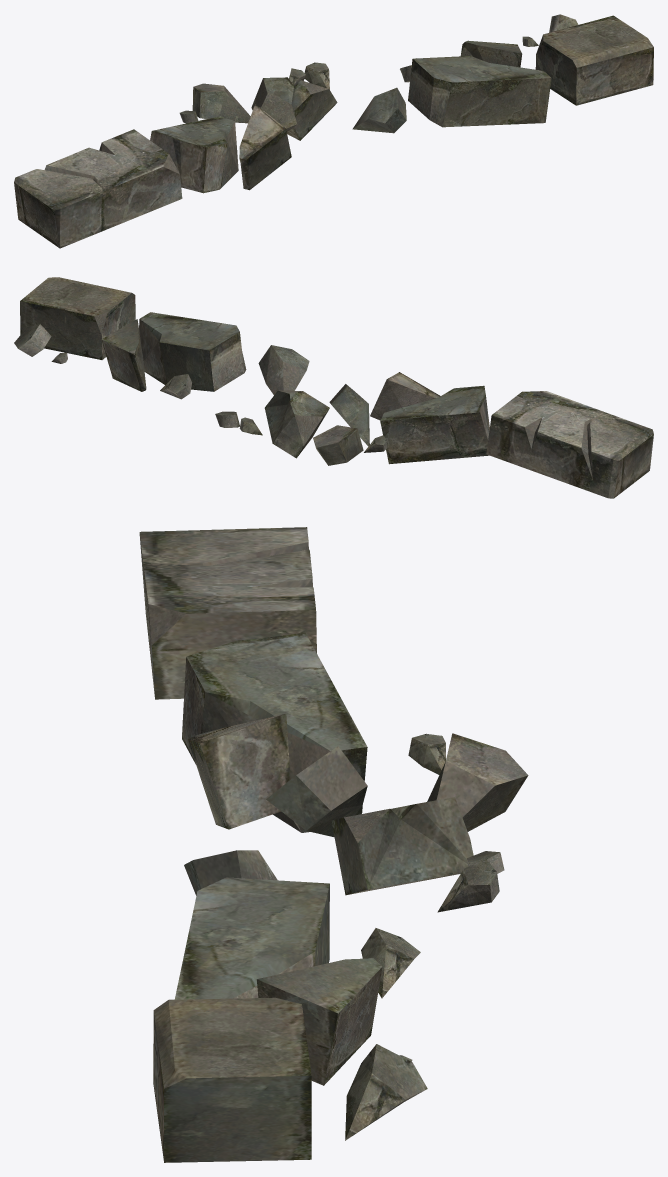
The model's file is bg_anh_gvalley_stairend01c_sm_cwk.FBX.
3 renders of one model, top to bottom at view 1: azimuth 30°, elevation 25°; view 2: azimuth 150°, elevation 25°; view 3: azimuth 270°, elevation 25°, orthographic. The views are drawn at different scales.
Parts seen in each view (by area): view 1: bg_anh_gvalley_stairend01c_sm_cwk; view 2: bg_anh_gvalley_stairend01c_sm_cwk; view 3: bg_anh_gvalley_stairend01c_sm_cwk.
Boxes of the visible parts, <box> form: bg_anh_gvalley_stairend01c_sm_cwk: <box>14,14,653,248</box>; bg_anh_gvalley_stairend01c_sm_cwk: <box>14,277,653,498</box>; bg_anh_gvalley_stairend01c_sm_cwk: <box>139,527,528,1162</box>.
Size of the model in its own units: 343 by 36.55 by 96.49.
